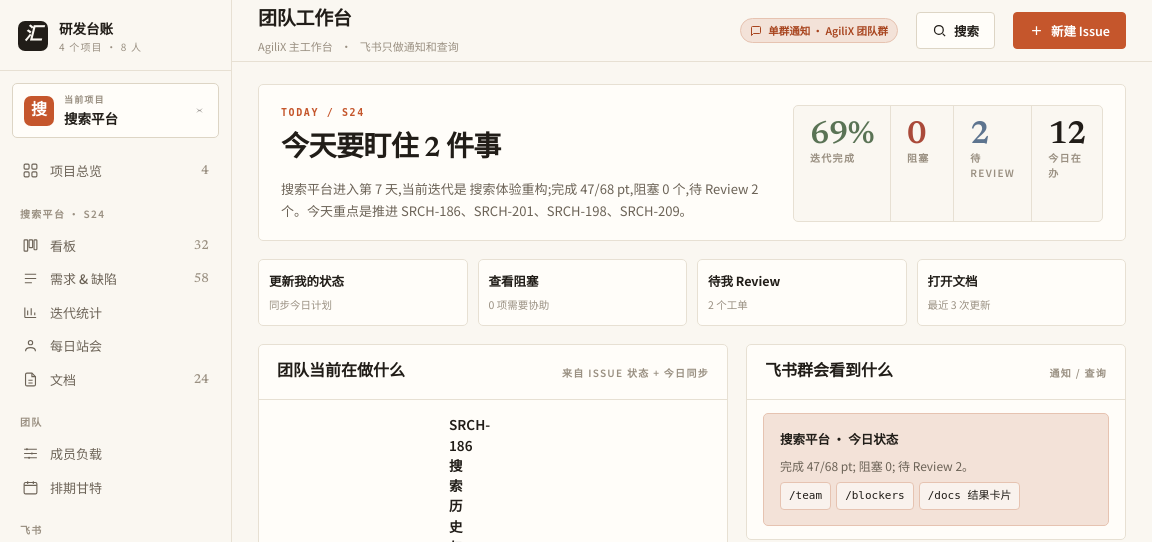
Test: AgiliX app shell › opens documents in the all-project knowledge base by default
Click the link "文档 24": (30, 379) [22, 370, 209, 388]
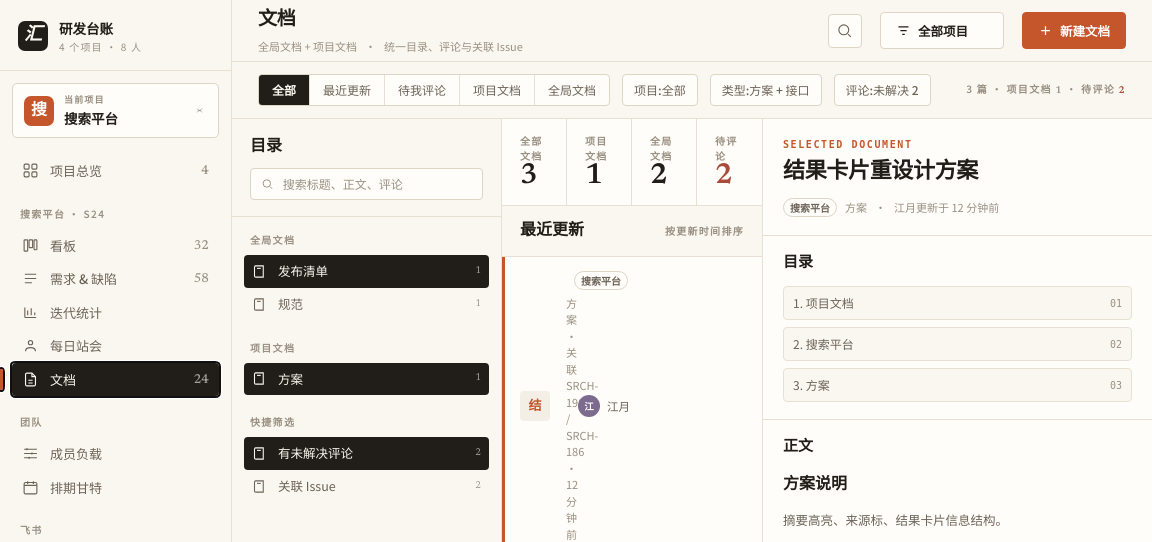
Expected: the heading "文档" is shown, [258, 11, 295, 30]
Expected: the text "项目:全部" is shown, [622, 74, 698, 106]
Expected: the text "类型:方案 + 接口" is shown, [710, 74, 822, 106]
